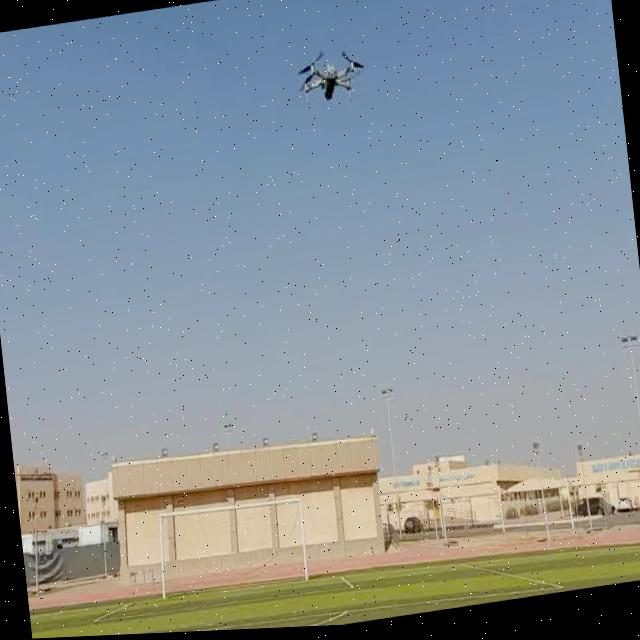drone: (288, 34, 371, 116)
